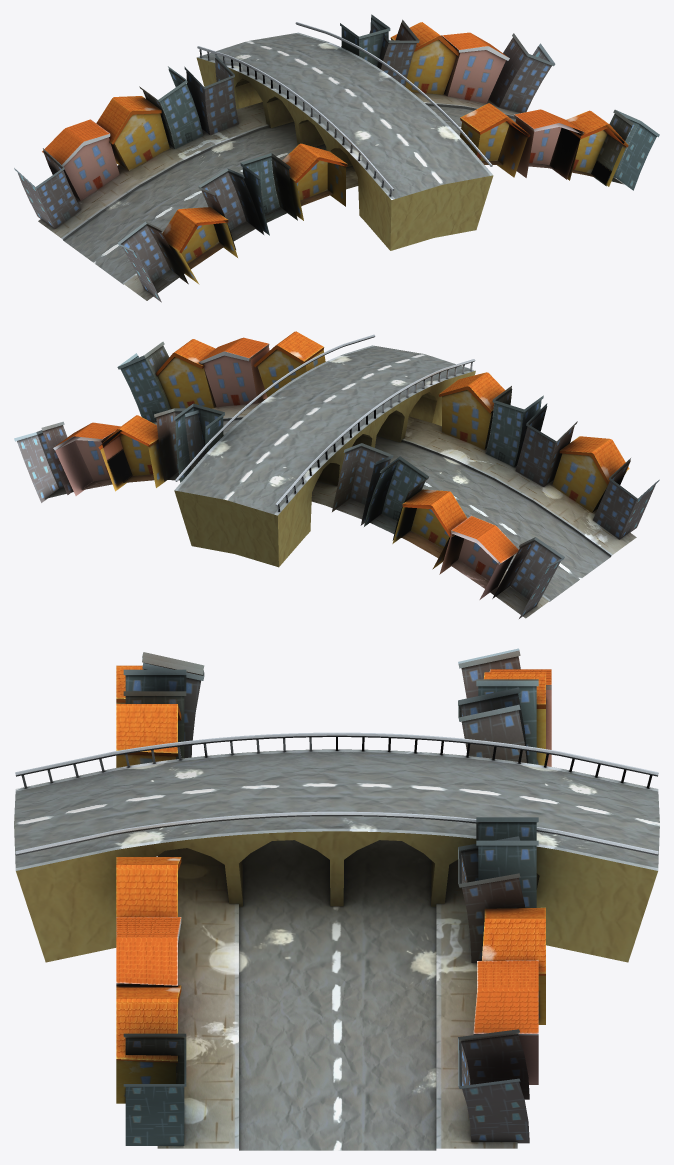
Rendered from modulo_C.FBX.
3 renders of one model, top to bottom at view 1: azimuth 30°, elevation 25°; view 2: azimuth 150°, elevation 25°; view 3: azimuth 270°, elevation 25°, orthographic. The views are drawn at different scales.
Parts seen in each view (by area): view 1: modulo_C; view 2: modulo_C; view 3: modulo_C.
Part boxes in pixels (box(x1,y1,x2,y2)): modulo_C: box(14, 14, 659, 302); modulo_C: box(14, 331, 659, 618); modulo_C: box(14, 648, 659, 1150).
Bounding box in the file's own units: 222 × 50.24 × 143.
